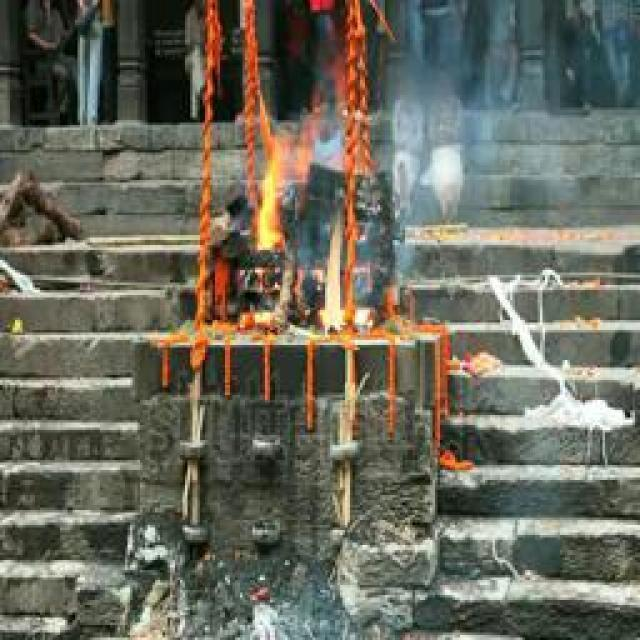Fire: (246, 90, 366, 333)
